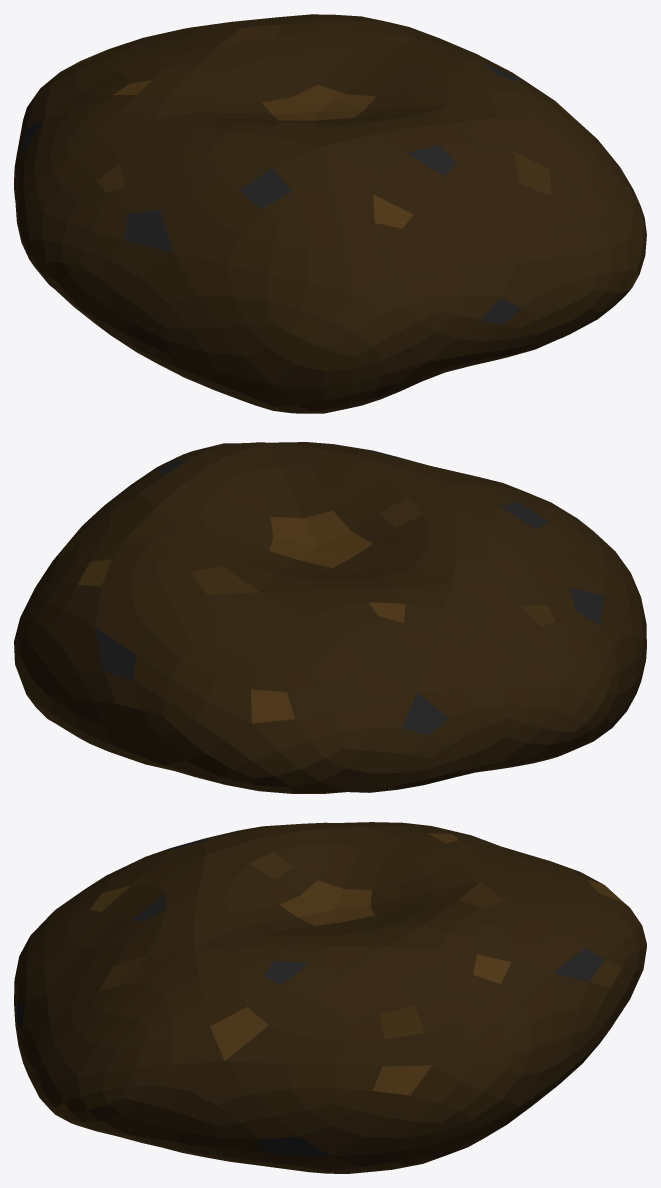
File: zollabagnata.glb
3 renders of one model, top to bottom at view 1: azimuth 30°, elevation 25°; view 2: azimuth 150°, elevation 25°; view 3: azimuth 270°, elevation 25°, orthographic. The views are drawn at different scales.
Visible parts, largest first — view 1: Icosphere; view 2: Icosphere; view 3: Icosphere.
Boxes of the visible parts, left/top/right/bottom form: Icosphere: left=14, top=14, right=646, bottom=413; Icosphere: left=14, top=442, right=646, bottom=793; Icosphere: left=14, top=822, right=646, bottom=1173.
Size of the model in its own units: 3.15 by 1.22 by 3.43.
